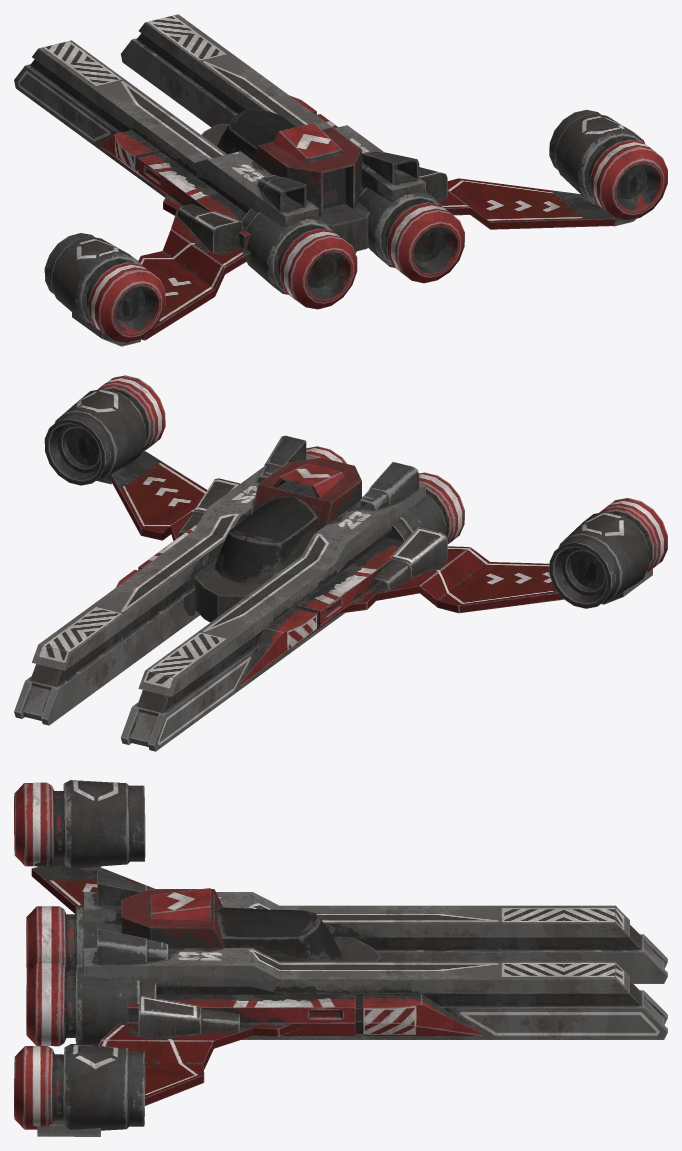
The model's file is quaternius-executioner.glb.
3 views of the same model, one above another, from view 1: azimuth 30°, elevation 25°; view 2: azimuth 150°, elevation 25°; view 3: azimuth 270°, elevation 25° (orthographic). The views are drawn at different scales.
Parts seen in each view (by area): view 1: Executioner; view 2: Executioner; view 3: Executioner.
Part boxes in pixels (x1=…): Executioner: x1=14, y1=14, x2=667, y2=346; Executioner: x1=14, y1=375, x2=667, y2=751; Executioner: x1=14, y1=780, x2=667, y2=1136.
Bounding box in the file's own units: 10.02 × 1.85 × 9.2.
1 material, 1 textured.
